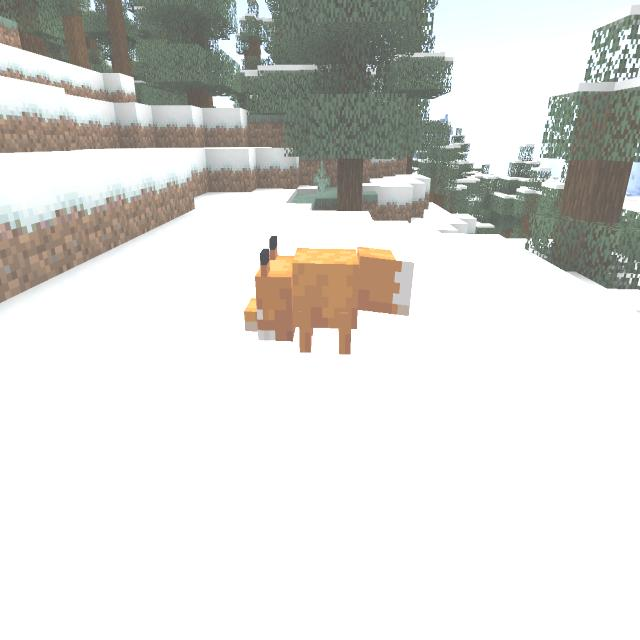Fox: (240, 228, 427, 374)
